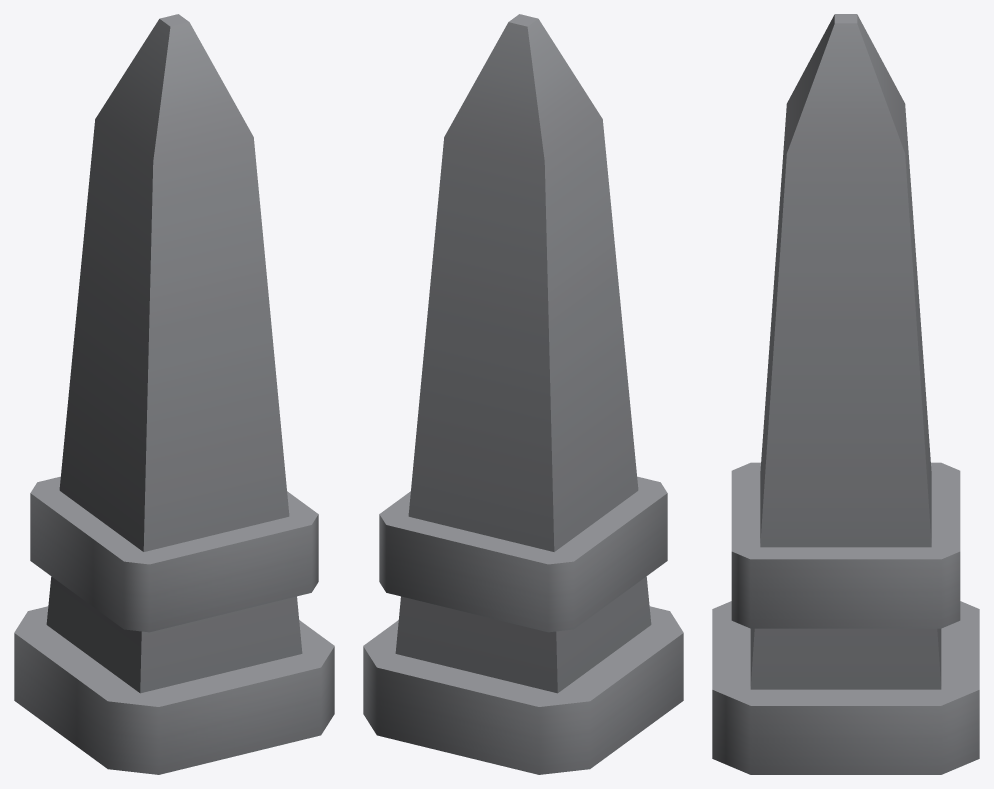
Rendered from pillar-obelisk.glb.
3 renders of one model, left to right at view 1: azimuth 30°, elevation 25°; view 2: azimuth 150°, elevation 25°; view 3: azimuth 270°, elevation 25°, orthographic.
Visible parts, largest first — view 1: pillar-obelisk; view 2: pillar-obelisk; view 3: pillar-obelisk.
Part boxes in pixels (x1=…): pillar-obelisk: x1=14, y1=14, x2=334, y2=774; pillar-obelisk: x1=363, y1=14, x2=683, y2=774; pillar-obelisk: x1=712, y1=14, x2=979, y2=774.
Size of the model in its own units: 0.84 by 2.43 by 0.84.
Materials: 1 (1 with a texture image).
